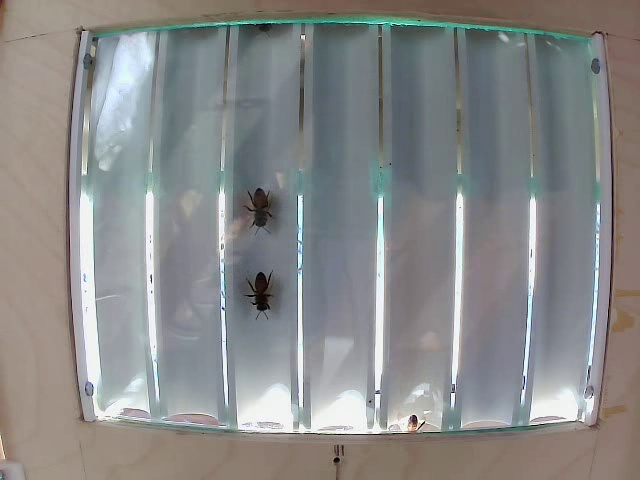bee: (248, 265, 285, 321), (258, 181, 277, 223)
